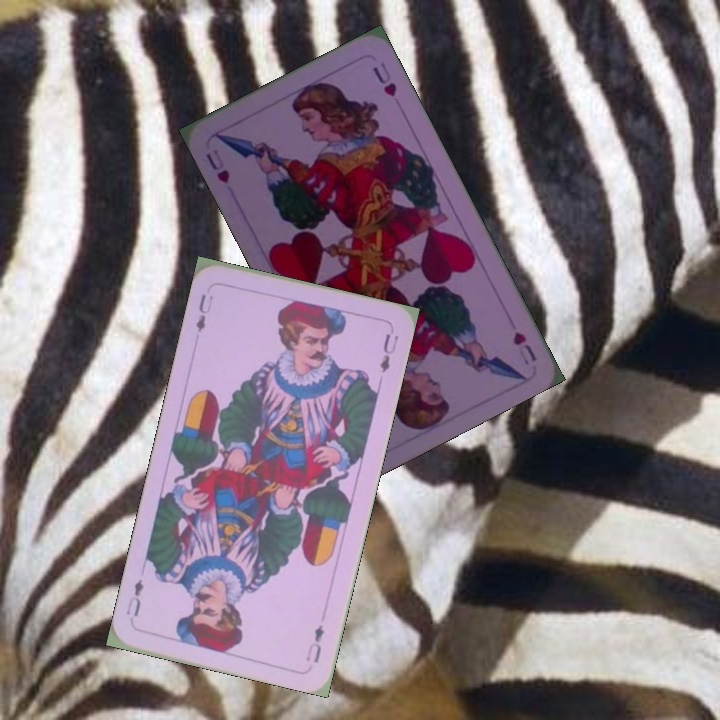EU: (301, 620, 327, 665), (192, 290, 216, 335)
HU: (201, 149, 233, 187), (509, 327, 540, 364)
